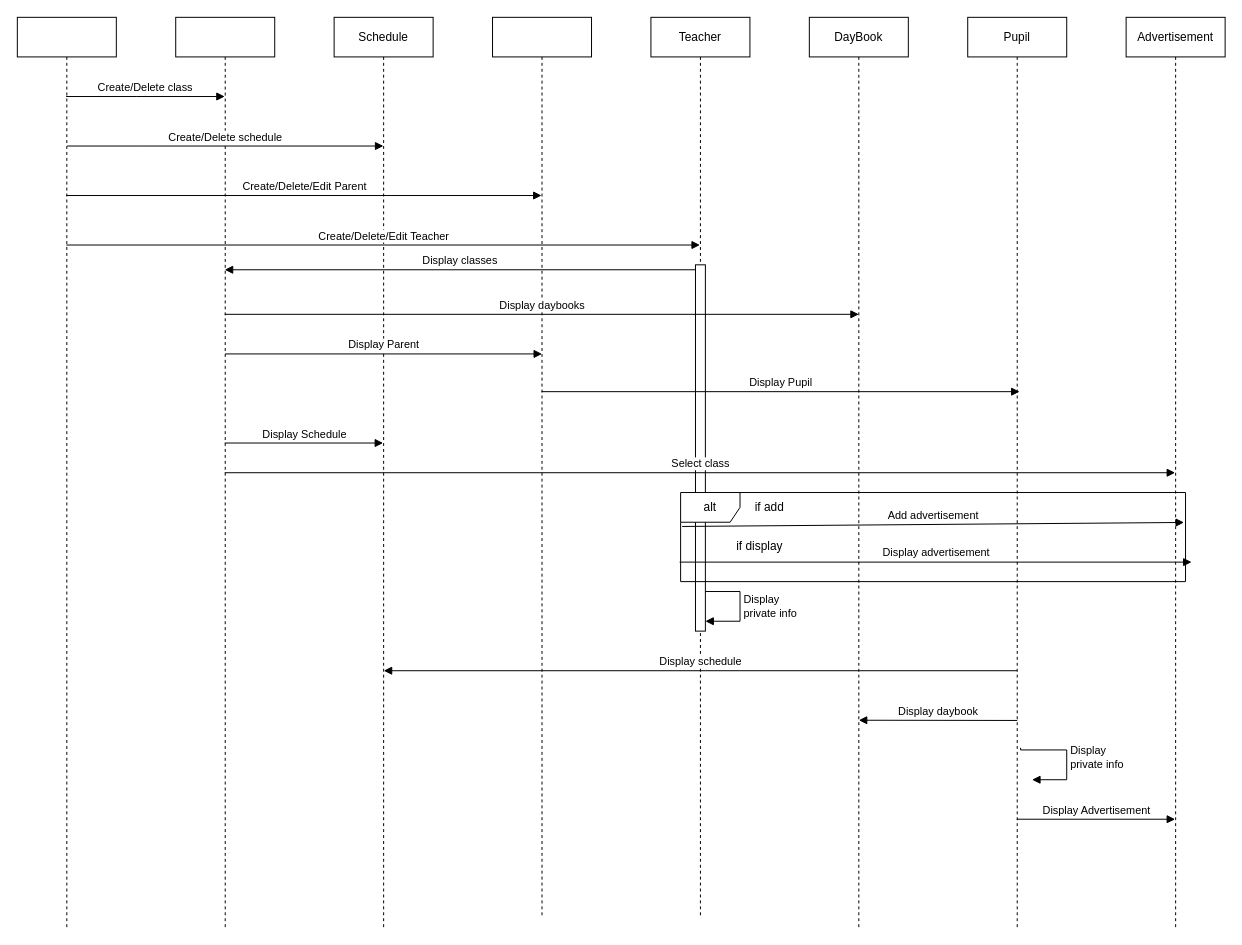
The diagram is 1242 pixels wide and 945 high, and some of its shapes have lost their labels. The shapes that lost their labels are listed below. From the top down, each one's box as (x1, y1, x2, y2) in pixels, then its label:
(16, 16, 116, 928): Admin
(175, 16, 275, 928): Class
(492, 16, 592, 918): Parent
